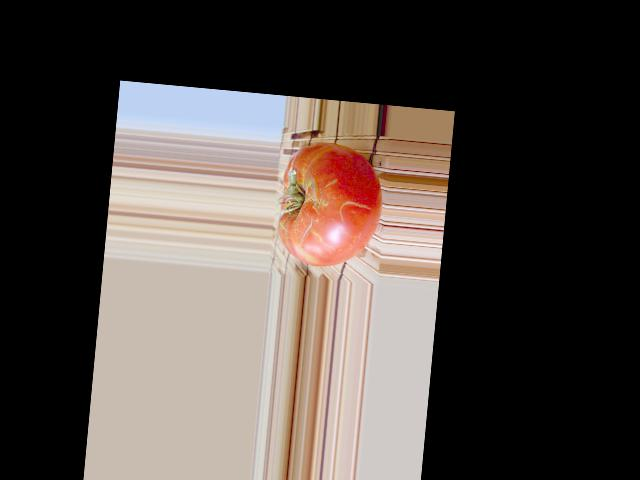tomato: (275, 138, 386, 271)
